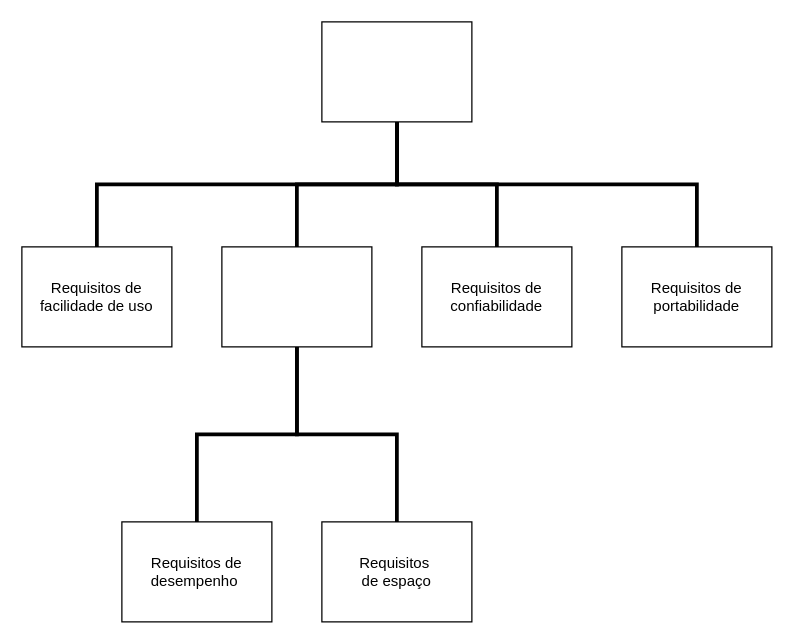
The diagram is 794 pixels wide and 644 high, and some of its shapes have lost their labels. Each missing label, with the box of its shape:
Requisitos de eficiência: (221, 246, 372, 347)
Requisitos de produto: (321, 21, 472, 122)
